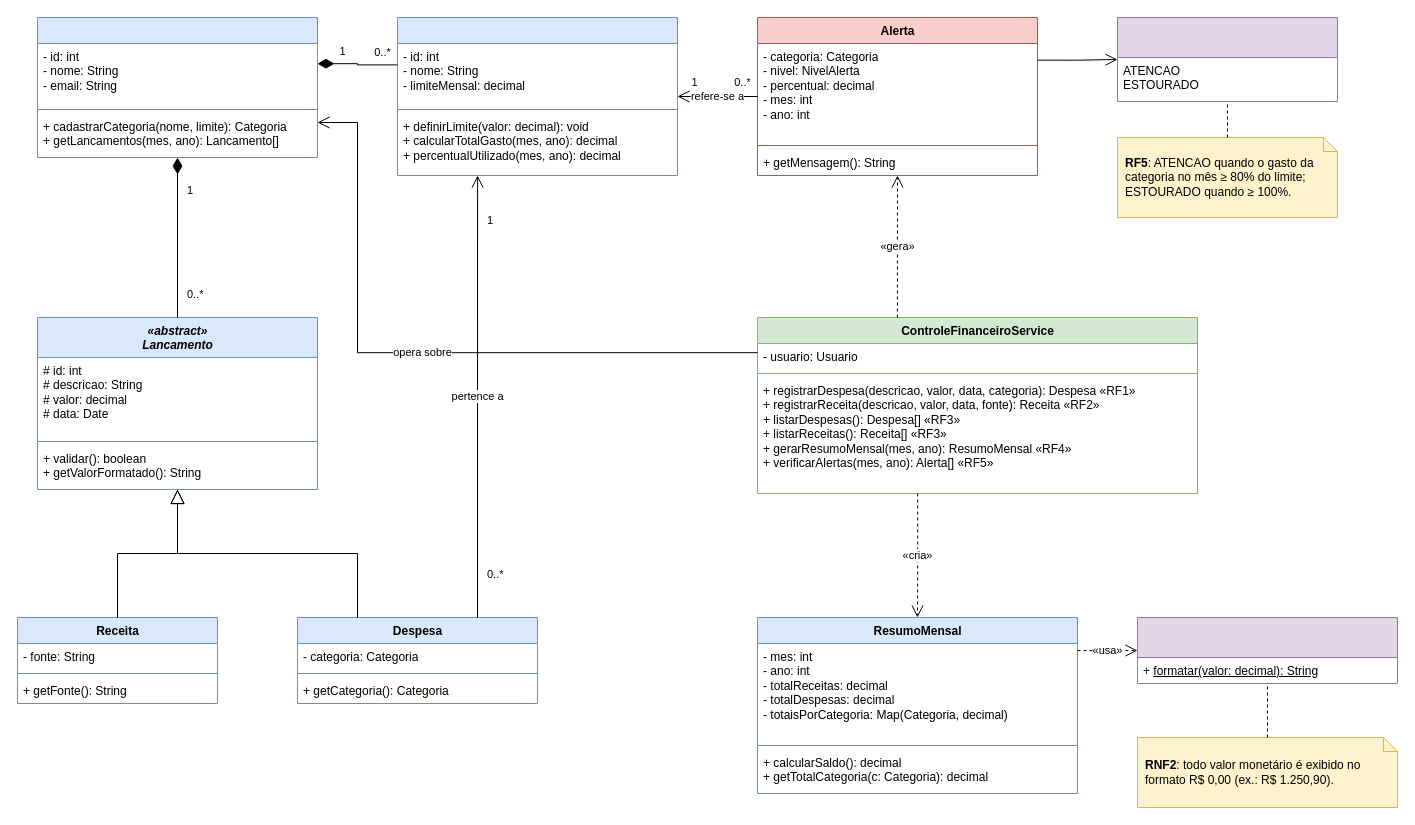
Some shapes in this 1415 by 825 pixel diagram are drawn without their labels. Here are the shapes that lost their labels. From the top down, the box of each, then its label:
(1116, 16, 1338, 102): «enumeration» NivelAlerta
(36, 16, 318, 158): Usuario
(396, 16, 678, 176): Categoria
(1136, 616, 1398, 684): «utility» FormatadorMoeda
